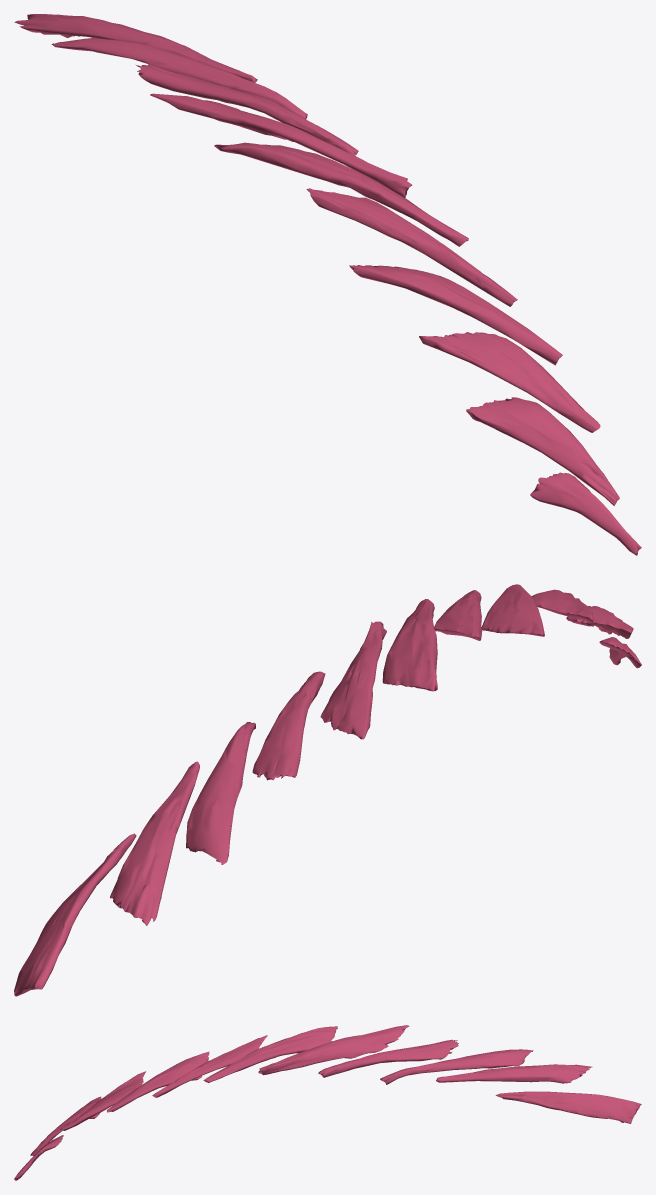
3 renders of one model, top to bottom at view 1: azimuth 30°, elevation 25°; view 2: azimuth 150°, elevation 25°; view 3: azimuth 270°, elevation 25°, orthographic. The views are drawn at different scales.
Visible parts, largest first — view 1: 右侧肋长提肌; view 2: 右侧肋长提肌; view 3: 右侧肋长提肌.
Boxes of the visible parts, x1=… form: 右侧肋长提肌: x1=14, y1=14, x2=641, y2=555; 右侧肋长提肌: x1=14, y1=584, x2=641, y2=996; 右侧肋长提肌: x1=14, y1=1025, x2=641, y2=1180.
Size of the model in its own units: 0.0696 by 0.1068 by 0.486.
